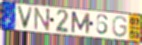2: (55, 9, 70, 34)
6: (96, 14, 109, 36)
G: (111, 15, 128, 39)
M: (70, 10, 91, 35)
N: (34, 7, 51, 32)
V: (16, 5, 35, 31)
